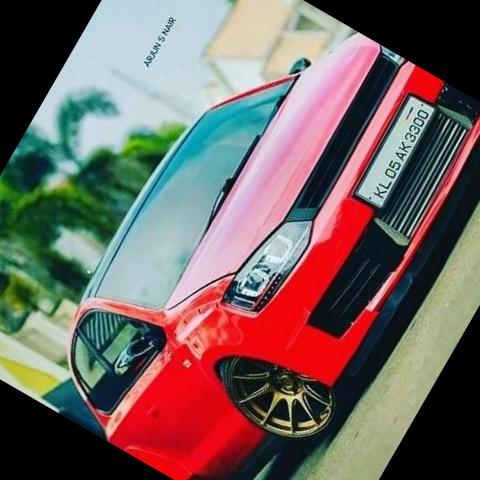plate: (343, 71, 466, 221)
